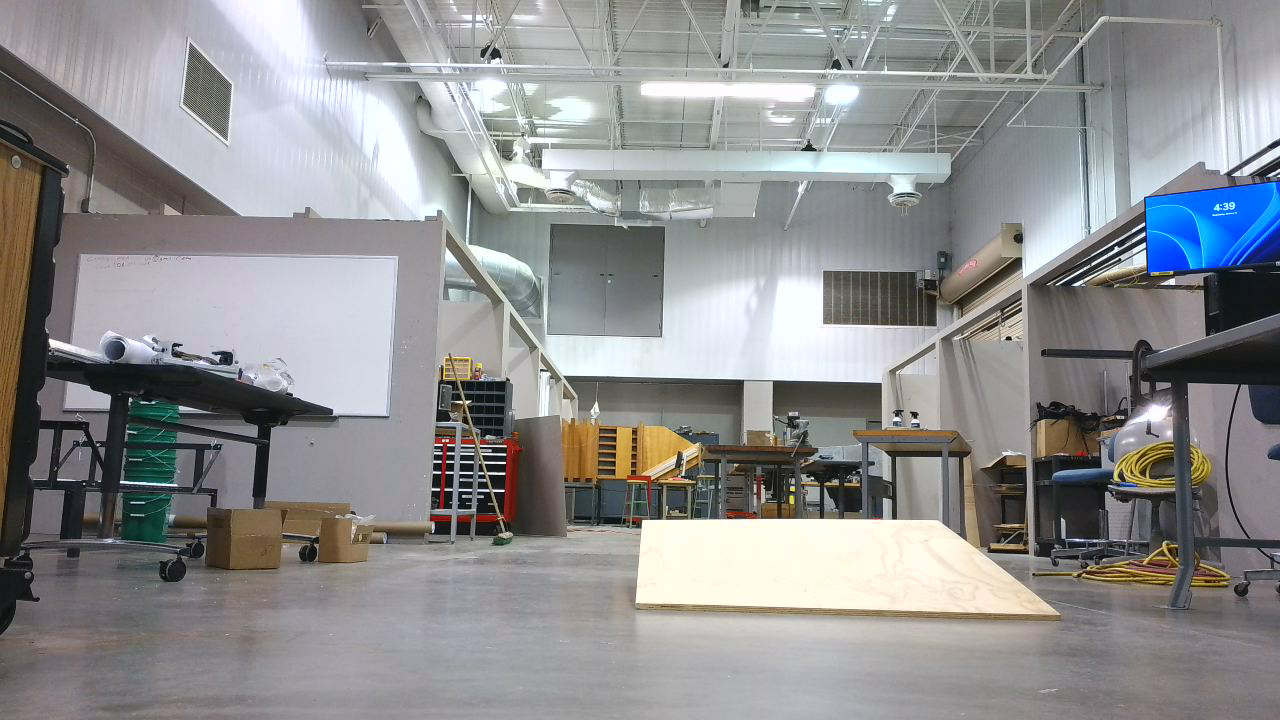ramp: (633, 518, 1076, 632)
